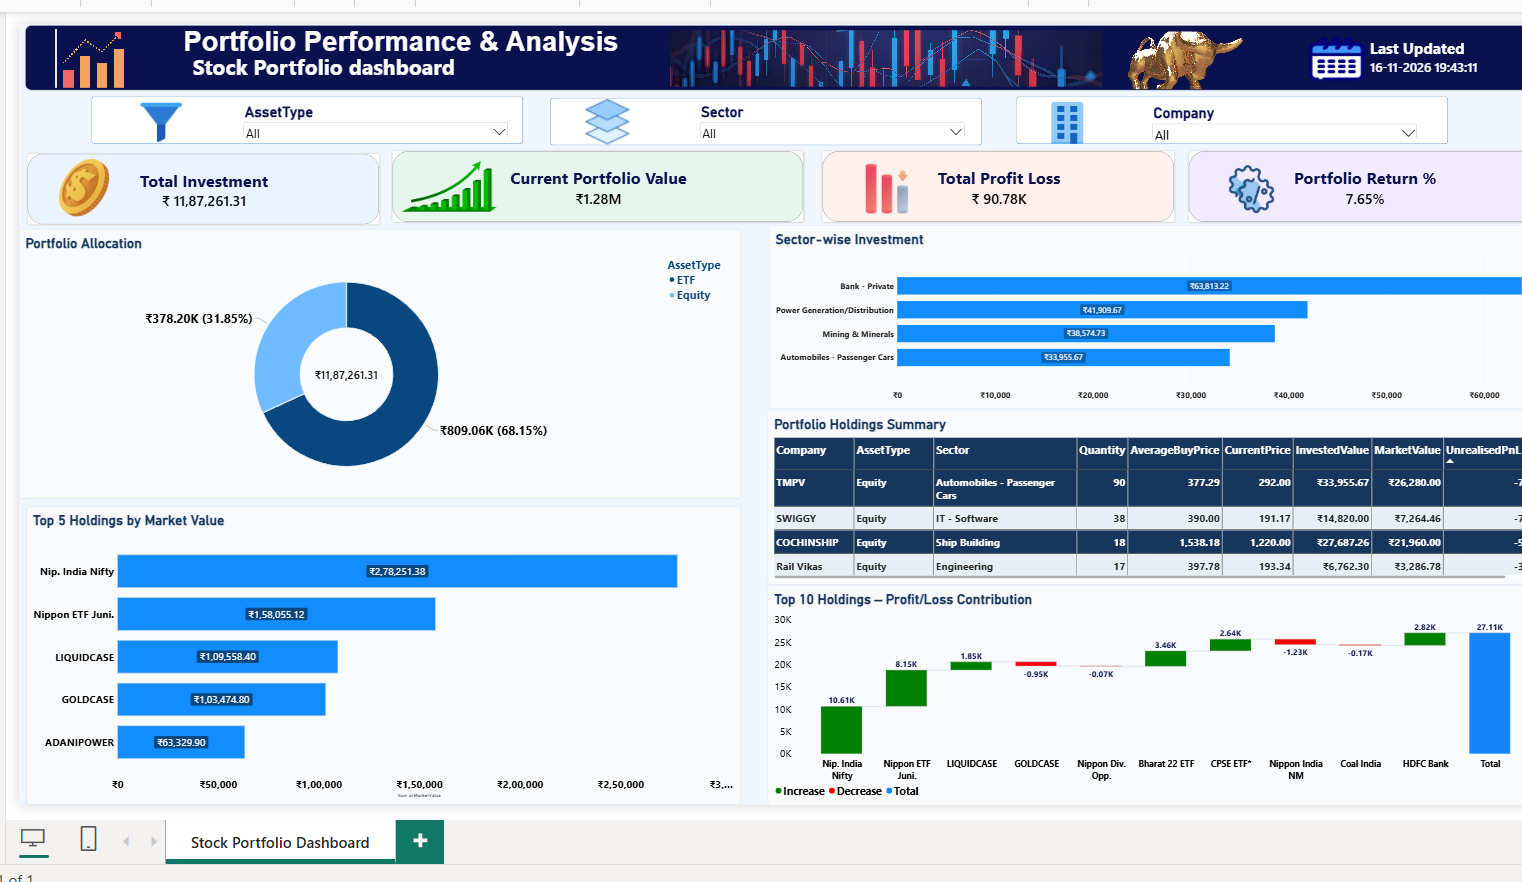

The page's visual inventory and layout, read from the dashboard file:
{"tool":"powerbi","page":{"name":"Stock Portfolio Dashboard","canvas":[4000,2050],"ordinal":0},"visuals":[{"type":"shape","box":[190.2,190.2,1132,124],"z":0},{"type":"shape","box":[2617.7,189.6,1132.1,124.8],"z":1000},{"type":"shape","box":[1394.9,193.4,1132.1,124.8],"z":2000},{"type":"tableEx","title":"Portfolio Holdings Summary","fields":{"Values":["T_HoldingsFile1.Company","T_HoldingsFile1.AssetType","T_HoldingsFile1.Sector","T_HoldingsFile1.Quantity","T_HoldingsFile1.AverageBuyPrice","T_HoldingsFile1.CurrentPrice","T_HoldingsFile1.InvestedValue","T_HoldingsFile1.MarketValue","T_HoldingsFile1.UnrealisedPnL"]},"box":[1963.7,1013.2,2033,458.7],"z":3000},{"type":"slicer","fields":{"Values":["T_HoldingsFile1.AssetType"]},"box":[580.5,202.7,711.5,100.1],"z":4000},{"type":"cardVisual","fields":{"Data":["T_HoldingsFile1.Total Investment"]},"box":[19,337.8,928.9,191.3],"z":5000},{"type":"slicer","fields":{"Values":["T_HoldingsFile1.Sector"]},"box":[1777,203.2,712.1,100.6],"z":6000},{"type":"clusteredBarChart","title":"Top 5 Holdings by Market Value","fields":{"Category":["T_HoldingsFile1.Company"],"Y":["Sum(T_HoldingsFile1.MarketValue)"]},"box":[19.8,1267.3,1874.6,782.2],"z":7000},{"type":"textbox","title":"      Portfolio Performance & Analysis","box":[15.2,3.8,3984.8,170.6],"z":8000},{"type":"donutChart","title":"Portfolio Allocation","fields":{"Category":["T_HoldingsFile1.AssetType"],"Y":["Sum(T_HoldingsFile1.InvestedValue)"]},"box":[0,538.8,1892.2,706.8],"z":9000},{"type":"slicer","fields":{"Values":["T_HoldingsFile1.Company"]},"box":[2963.8,208.2,712.1,100.6],"z":10000},{"type":"cardVisual","fields":{"Data":["T_HoldingsFile1.Current Portfolio Value"]},"box":[978.2,330,1083.7,191.3],"z":11000},{"type":"image","box":[1710,15.2,1133.6,147.9],"z":12000},{"type":"image","box":[2885.3,19,349.9,150.8],"z":13000},{"type":"clusteredBarChart","title":"Sector-wise Investment","fields":{"Category":["T_HoldingsFile1.Sector"],"Series":["T_HoldingsFile1.AssetType"],"Y":["Sum(T_HoldingsFile1.InvestedValue)"]},"box":[1967,528.1,2034.6,481.6],"z":14000},{"type":"cardVisual","fields":{"Data":["T_HoldingsFile1.Total Profit Loss"]},"box":[2105.7,330,928.9,191.3],"z":15000},{"type":"textbox","box":[455,72,826.5,98.6],"z":16000},{"type":"image","box":[55,13.7,274.8,154.6],"z":17000},{"type":"image","box":[238.8,190,267,130.8],"z":18000},{"type":"image","box":[1411.5,193.4,267,125.7],"z":19000},{"type":"image","box":[2615.2,196.5,267,125.7],"z":20000},{"type":"waterfallChart","title":"Top 10 Holdings – Profit/Loss Contribution","fields":{"Category":["T_HoldingsFile1.Company"],"Y":["Sum(T_HoldingsFile1.UnrealisedPnL)"]},"box":[1963.7,1471.9,2036.3,577.6],"z":21000},{"type":"cardVisual","fields":{"Data":["T_HoldingsFile1.Portfolio Return %"]},"box":[3066.1,329.9,928.9,191.6],"z":22000},{"type":"image","box":[46.2,353.1,250,150],"z":23000},{"type":"image","box":[1003.3,349.8,250,150],"z":24000},{"type":"image","box":[2132,356.4,290.4,148.5],"z":25000},{"type":"image","box":[3102.3,330,264,201.3],"z":26000},{"type":"cardVisual","fields":{"Data":["T_HoldingsFile1.Last Updated"]},"box":[3529.9,11.4,466.4,151.7],"z":27000},{"type":"image","box":[3366.8,19,178.2,144.1],"z":28000}]}

Visuals, with their boxes on the page's 4000x2050 design canvas (x1, y1, x2, y2). These are canvas units, not pixel positions in the 1522x882 screenshot, which may show the page scaled, cropped or inside an application window:
shape: crop(190, 190, 1322, 314)
shape: crop(2618, 190, 3750, 314)
shape: crop(1395, 193, 2527, 318)
"Portfolio Holdings Summary" tableEx: crop(1964, 1013, 3997, 1472)
slicer - T_HoldingsFile1.AssetType: crop(580, 203, 1292, 303)
cardVisual - T_HoldingsFile1.Total Investment: crop(19, 338, 948, 529)
slicer - T_HoldingsFile1.Sector: crop(1777, 203, 2489, 304)
"Top 5 Holdings by Market Value" clusteredBarChart: crop(20, 1267, 1894, 2050)
"      Portfolio Performance & Analysis" textbox: crop(15, 4, 4000, 174)
"Portfolio Allocation" donutChart: crop(0, 539, 1892, 1246)
slicer - T_HoldingsFile1.Company: crop(2964, 208, 3676, 309)
cardVisual - T_HoldingsFile1.Current Portfolio Value: crop(978, 330, 2062, 521)
image: crop(1710, 15, 2844, 163)
image: crop(2885, 19, 3235, 170)
"Sector-wise Investment" clusteredBarChart: crop(1967, 528, 4002, 1010)
cardVisual - T_HoldingsFile1.Total Profit Loss: crop(2106, 330, 3035, 521)
textbox: crop(455, 72, 1282, 171)
image: crop(55, 14, 330, 168)
image: crop(239, 190, 506, 321)
image: crop(1412, 193, 1678, 319)
image: crop(2615, 196, 2882, 322)
"Top 10 Holdings – Profit/Loss Contribution" waterfallChart: crop(1964, 1472, 4000, 2050)
cardVisual - T_HoldingsFile1.Portfolio Return %: crop(3066, 330, 3995, 522)
image: crop(46, 353, 296, 503)
image: crop(1003, 350, 1253, 500)
image: crop(2132, 356, 2422, 505)
image: crop(3102, 330, 3366, 531)
cardVisual - T_HoldingsFile1.Last Updated: crop(3530, 11, 3996, 163)
image: crop(3367, 19, 3545, 163)
